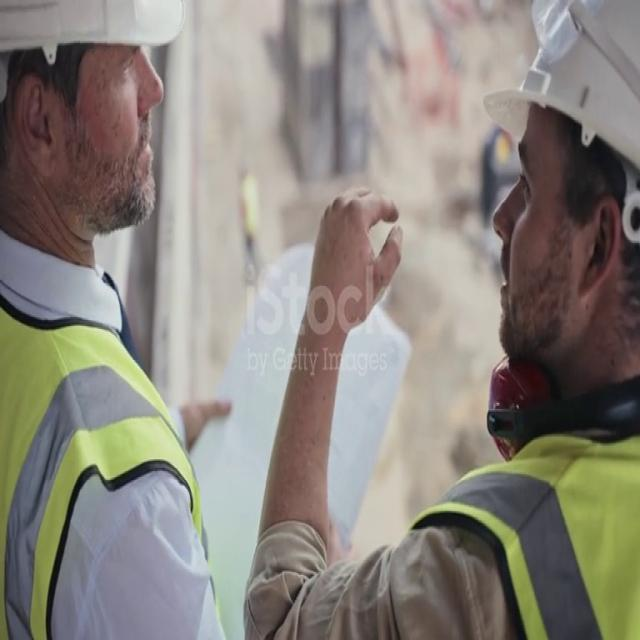capacete: (465, 0, 640, 206), (0, 0, 197, 141)
